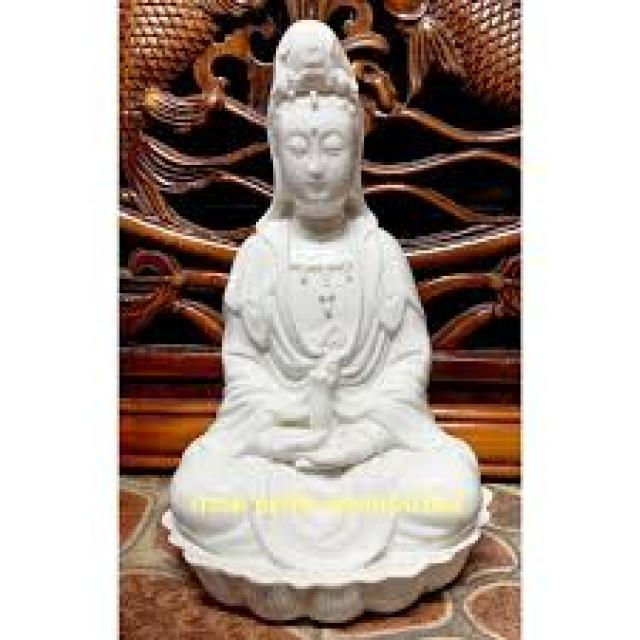Guan Yin: (215, 21, 435, 456)
